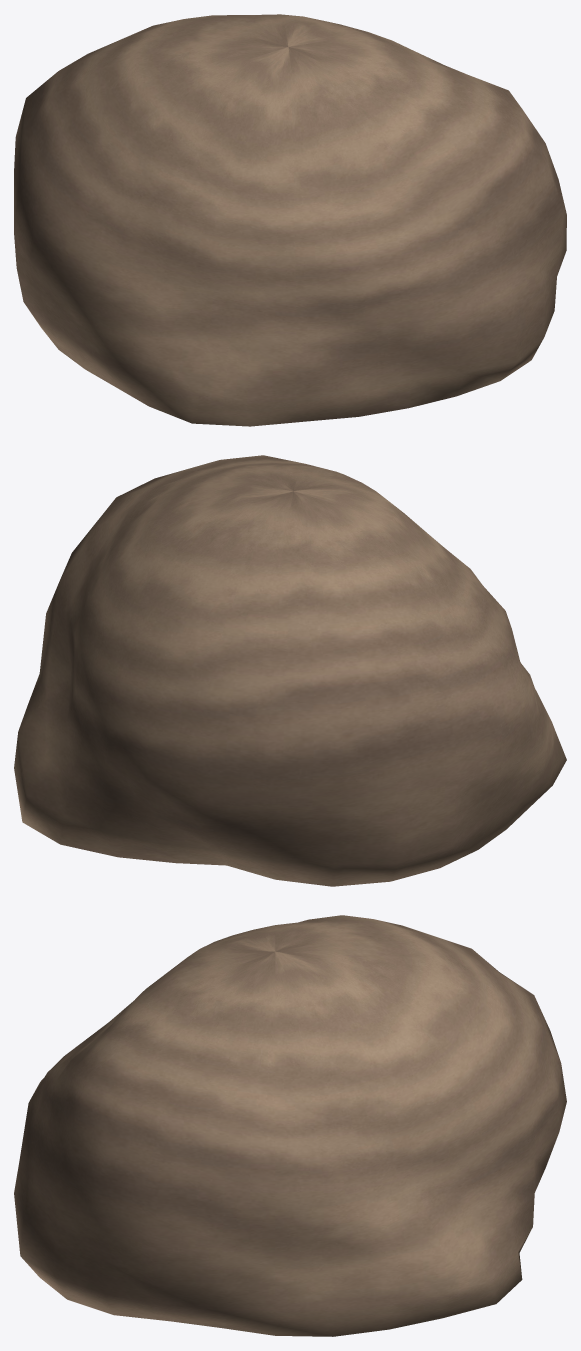
File: rock_b.obj
The picture shows the model from 3 angles, top to bottom: view 1: azimuth 30°, elevation 25°; view 2: azimuth 150°, elevation 25°; view 3: azimuth 270°, elevation 25°; orthographic projection. The views are drawn at different scales.
Visible parts, largest first — view 1: rock_b; view 2: rock_b; view 3: rock_b.
Part boxes in pixels (x1=…): rock_b: x1=14, y1=14, x2=566, y2=426; rock_b: x1=14, y1=455, x2=566, y2=886; rock_b: x1=14, y1=915, x2=566, y2=1336.
Bounding box in the file's own units: 0.6869 × 0.3975 × 0.7136.
Materials: 1 (1 with a texture image).
